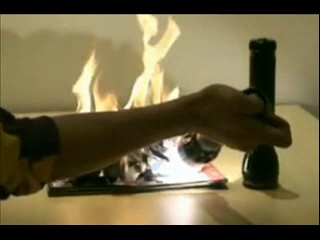fire: (122, 13, 180, 113), (70, 44, 120, 115)
